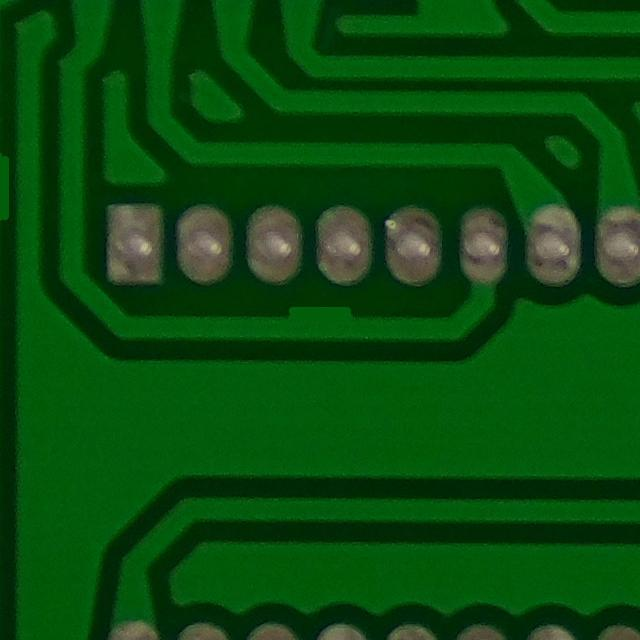spur: (273, 295, 368, 345)
